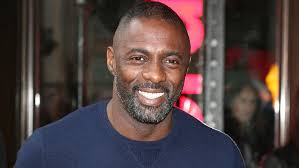person: (105, 2, 192, 126)
